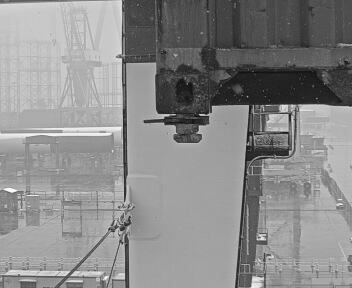twist_lock_1: (156, 109, 212, 154)
